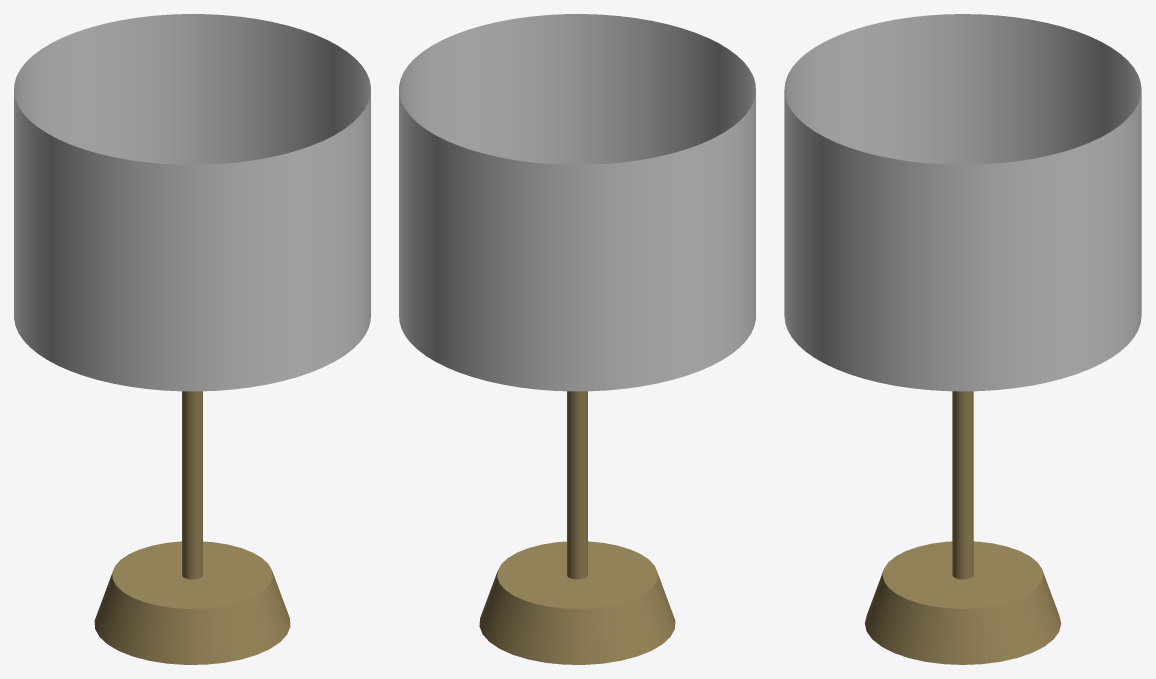
The model's file is lampshade.glb.
3 renders of one model, left to right at view 1: azimuth 30°, elevation 25°; view 2: azimuth 150°, elevation 25°; view 3: azimuth 270°, elevation 25°, orthographic.
Bounding box in the file's own units: 0.4 × 0.66 × 0.4.
